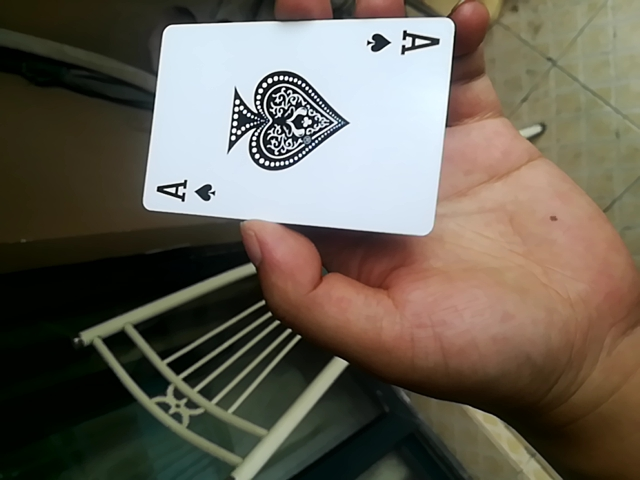ht a: (134, 16, 457, 240)
